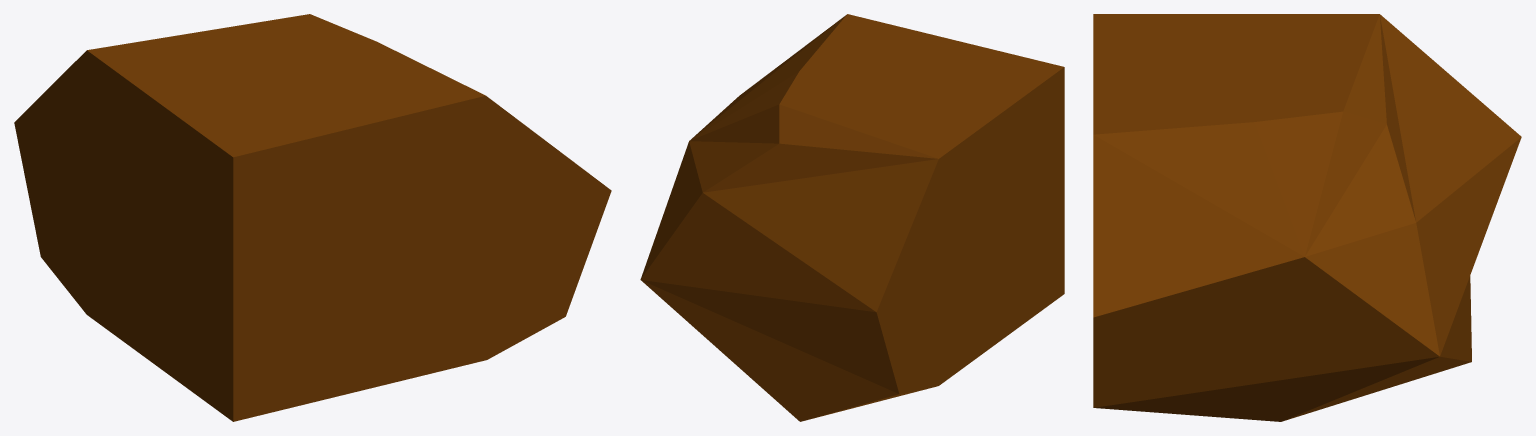
Rendered from DarkRockEdgeSmallExternalCurve1.fbx.
3 views of the same model, side by side, from view 1: azimuth 30°, elevation 25°; view 2: azimuth 150°, elevation 25°; view 3: azimuth 270°, elevation 25° (orthographic). The views are drawn at different scales.
Visible parts, largest first — view 1: pCube1; view 2: pCube1; view 3: pCube1.
Part boxes in pixels (x1=…): pCube1: x1=14, y1=14, x2=611, y2=421; pCube1: x1=640, y1=14, x2=1064, y2=421; pCube1: x1=1093, y1=14, x2=1521, y2=421.
Size of the model in its own units: 299 by 227 by 300.
Materials: 1 (1 with a texture image).
